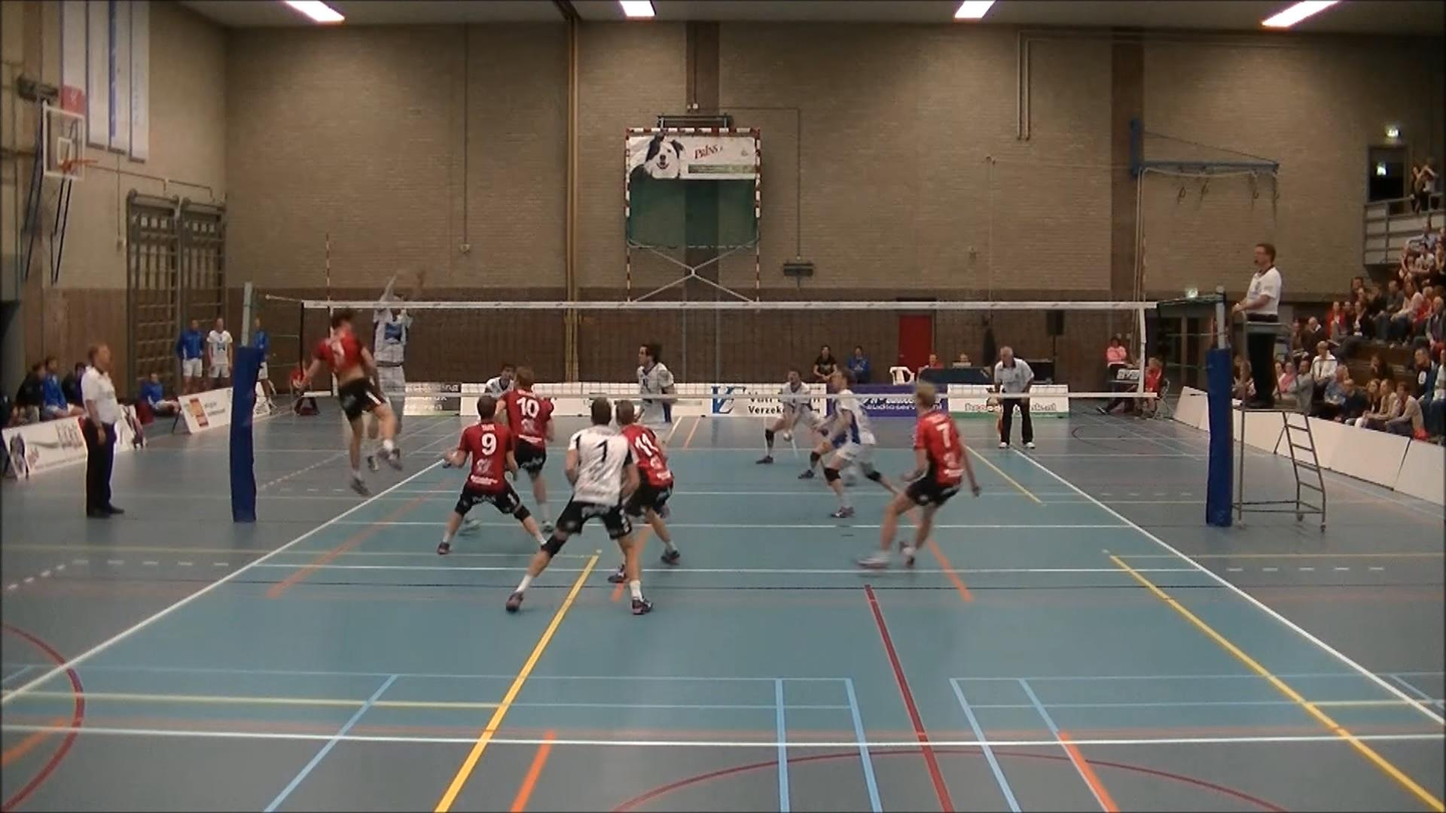Attack: (301, 301, 402, 481)
Block: (358, 257, 423, 468)
Player: (506, 397, 651, 614), (859, 382, 980, 568), (437, 394, 545, 554), (815, 370, 896, 518), (615, 400, 680, 565), (499, 367, 554, 532), (757, 369, 822, 464), (637, 343, 675, 427), (484, 363, 515, 398)
